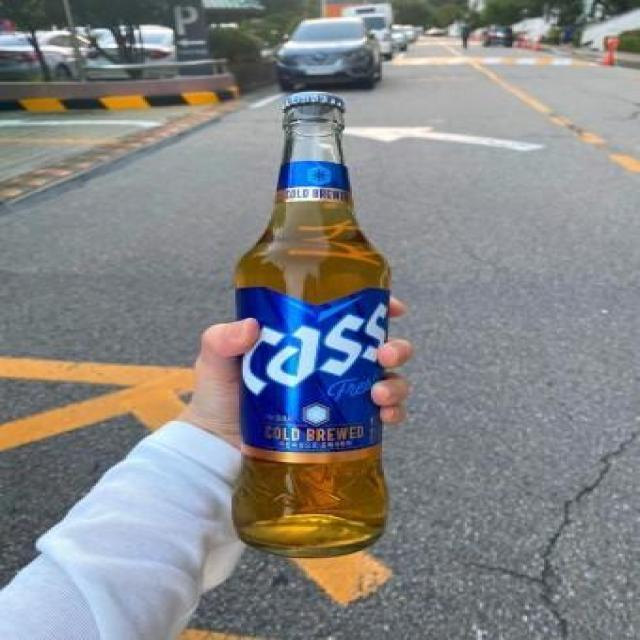beer-bottle: (228, 88, 403, 556)
